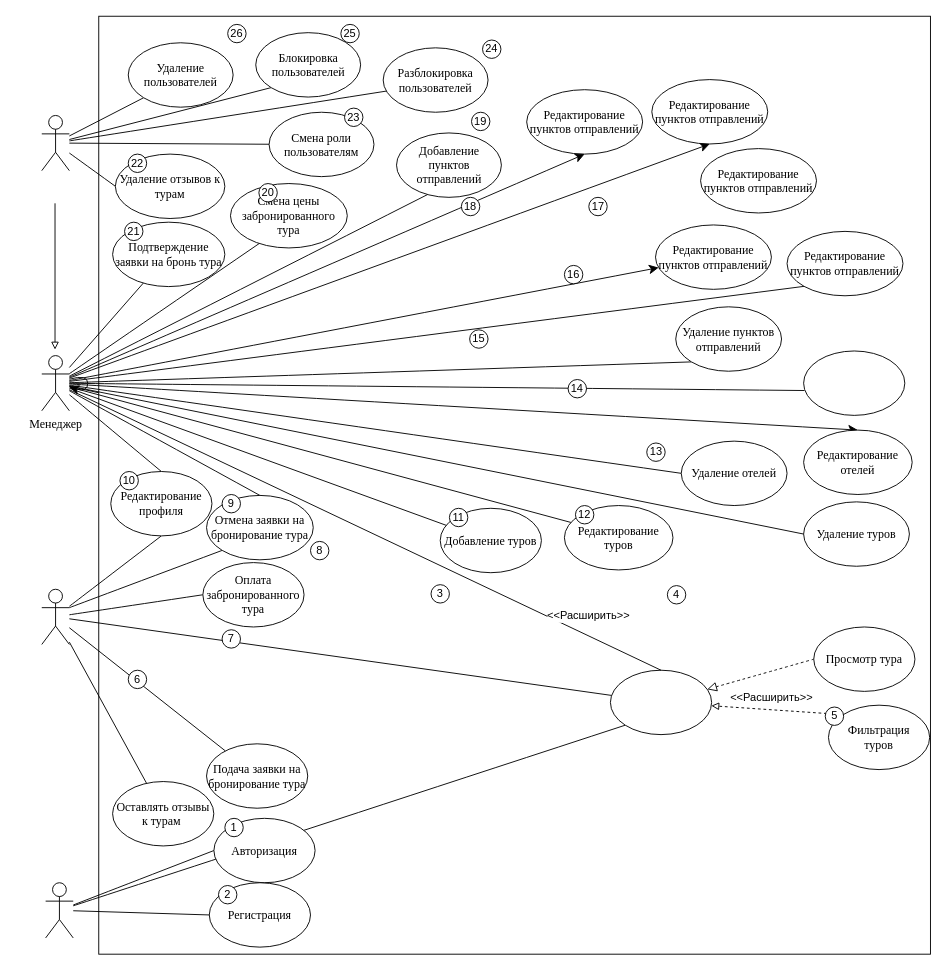
This 947x975 diagram has some shape labels left out. The centre of each missing label's shape, as x and y in pixels:
Администратор: [55,143]
Гость: [59,910]
Добавление отелей: [854,382]
Пользователь: [55,616]
Просмотр туров: [661,702]
